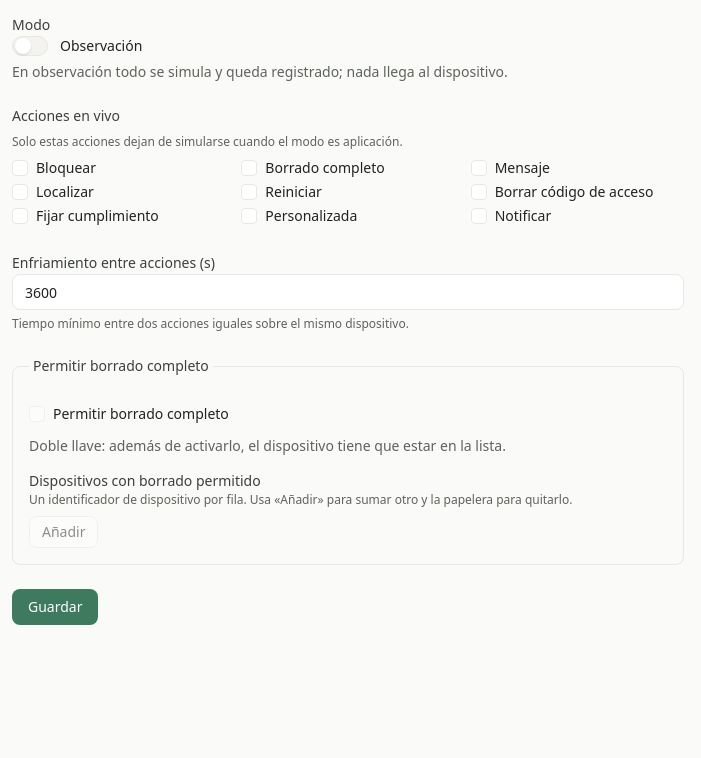
Test: un wipe_allowlist con un id vacío muestra el error
Click the switch at (30, 46), box [12,36,48,56]
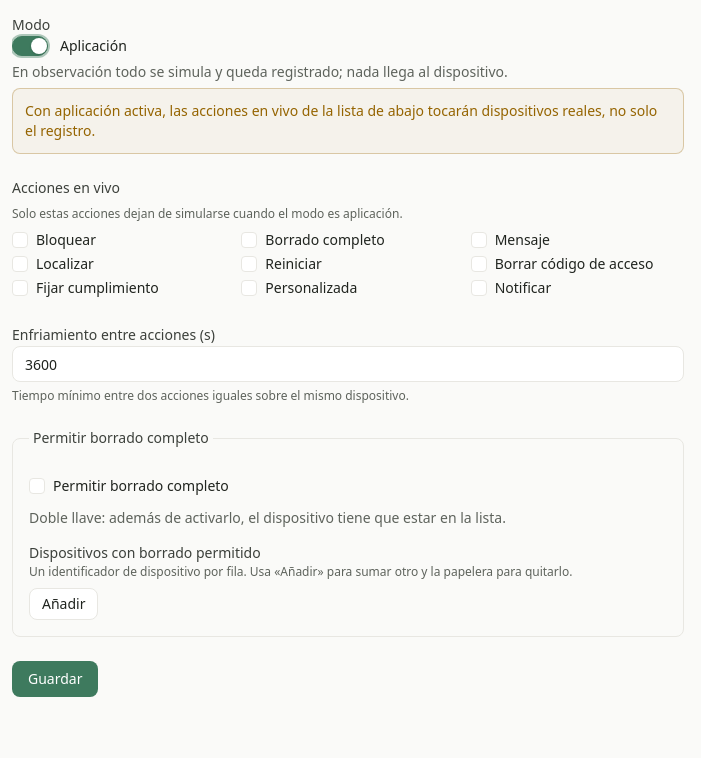
Click the button "Añadir" at (64, 604), box [29,588,98,620]
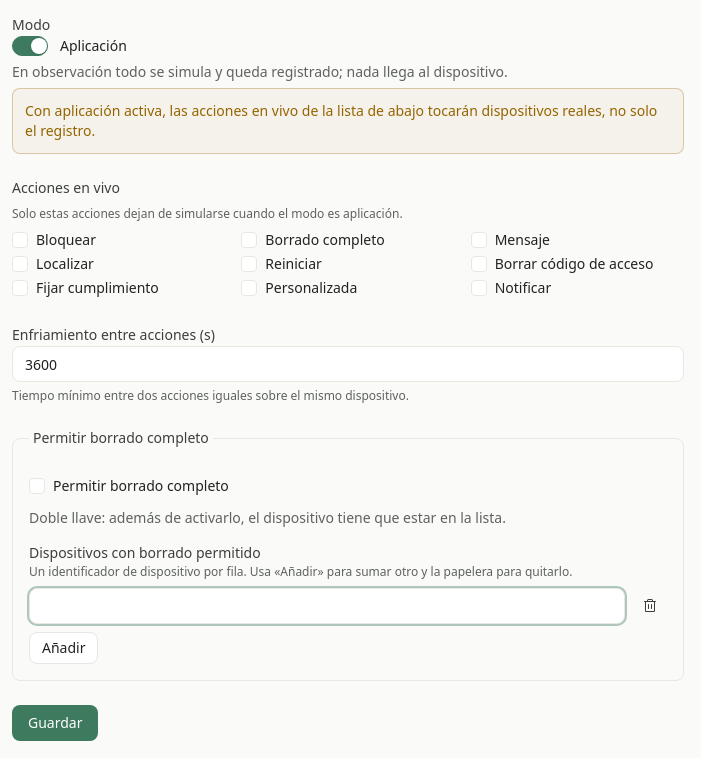
Click the button "Guardar" at (55, 723), box [12,705,98,741]
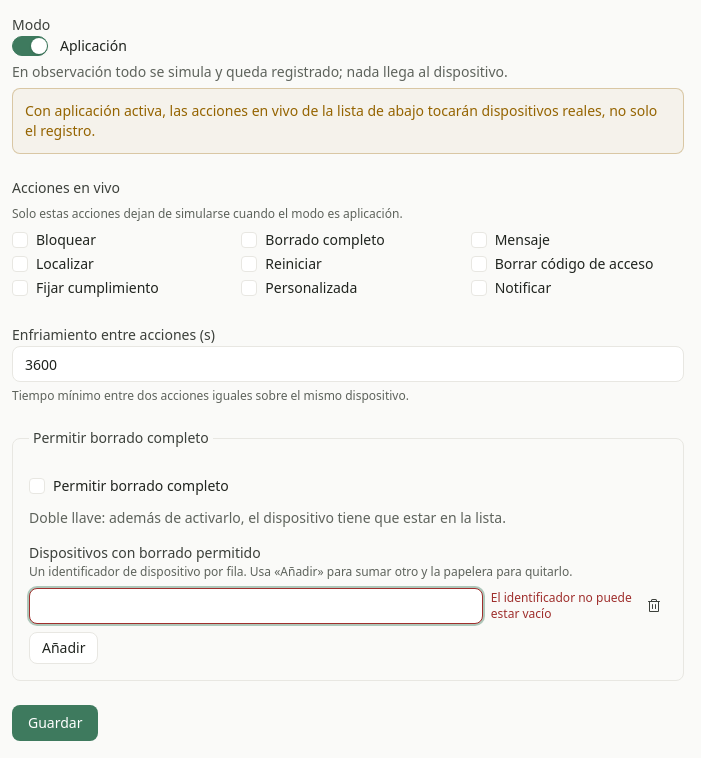
expect the message "El identificador no puede estar vacío" is shown: met, box [491,590,634,622]
